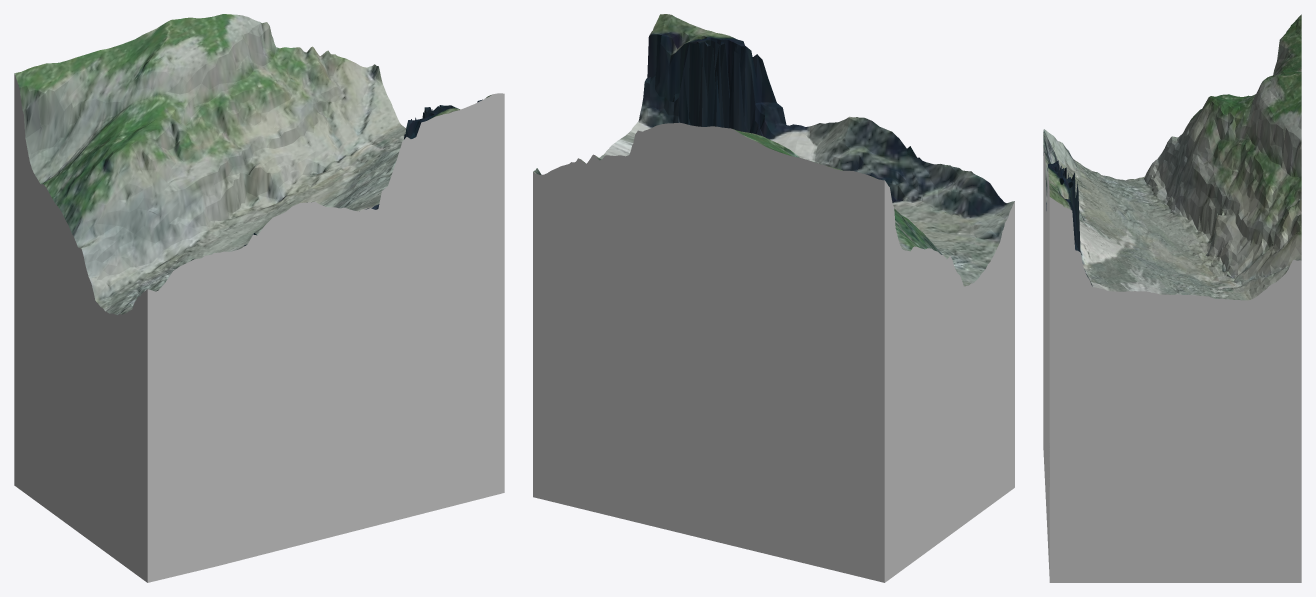
File: GrindScene14.gltf
The picture shows the model from 3 angles, left to right: view 1: azimuth 30°, elevation 25°; view 2: azimuth 150°, elevation 25°; view 3: azimuth 270°, elevation 25°; orthographic projection. The views are drawn at different scales.
Parts seen in each view (by area): view 1: Plane; view 2: Plane; view 3: Plane.
Boxes of the visible parts, left/top/right/bottom form: Plane: left=14, top=14, right=504, bottom=582; Plane: left=533, top=14, right=1014, bottom=582; Plane: left=1043, top=14, right=1301, bottom=582.
Bounding box in the file's own units: 0.6 × 0.6798 × 0.3854.
2 materials, 1 textured.
